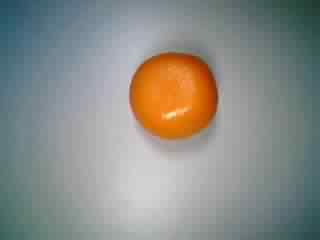orange: (125, 48, 220, 142)
